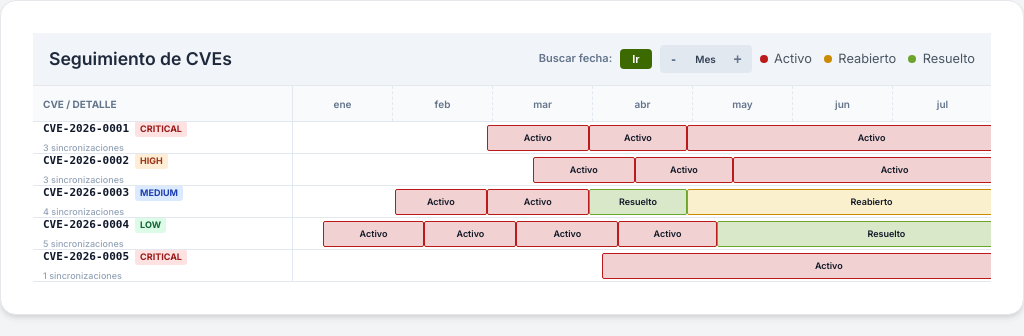
Test: GanttTab.vue › zoom controls › zoomIn increases zoom index
The image size is (1024, 336).
Step 1. Click the button with class "zoom-btn" showing "+" → (738, 59), box [726,47,750,71]
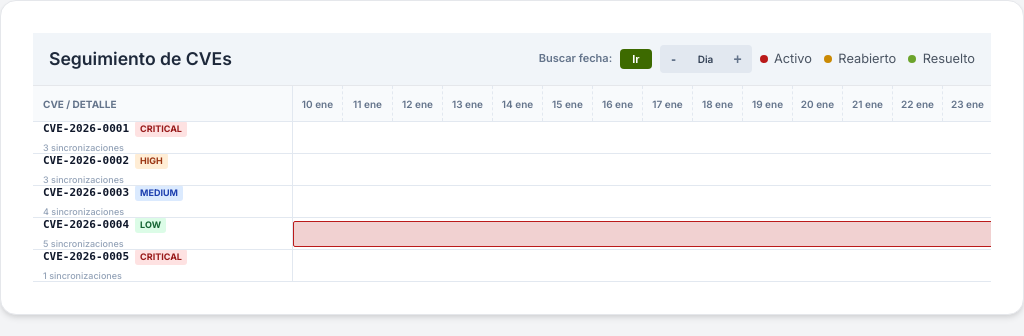
Expected: the text "Dia" is shown, [698,53,713,65]
